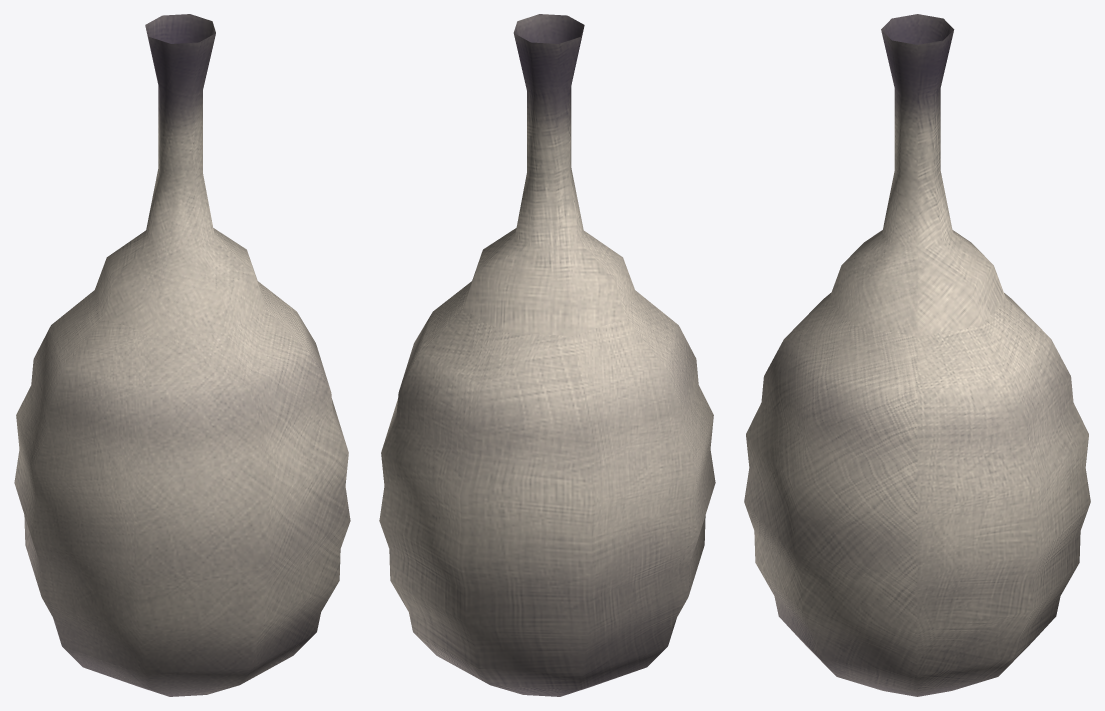
Rendered from Prop_056_Coocon.fbx.
3 views of the same model, side by side, from view 1: azimuth 30°, elevation 25°; view 2: azimuth 150°, elevation 25°; view 3: azimuth 270°, elevation 25° (orthographic).
Visible parts, largest first — view 1: Prop_056_Coocon; view 2: Prop_056_Coocon; view 3: Prop_056_Coocon.
Part boxes in pixels (x1,y1,x2,y2): Prop_056_Coocon: [14, 14, 350, 696]; Prop_056_Coocon: [379, 14, 715, 696]; Prop_056_Coocon: [744, 14, 1090, 696].
Bounding box in the file's own units: 1.41 × 2.9 × 1.41.
1 material, 1 textured.
